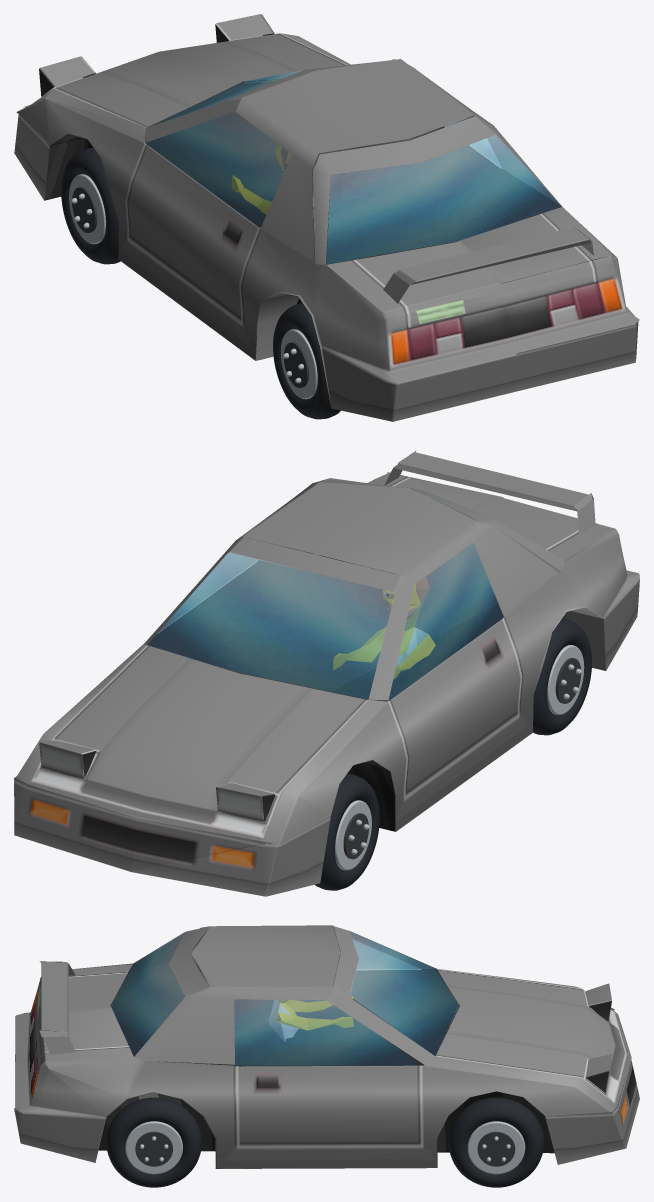
The model's file is car-sportsb.glb.
The picture shows the model from 3 angles, top to bottom: view 1: azimuth 30°, elevation 25°; view 2: azimuth 150°, elevation 25°; view 3: azimuth 270°, elevation 25°; orthographic projection. The views are drawn at different scales.
Parts seen in each view (by area): view 1: sportsBShape.002, windShape.006, sportsb wheel assembly.003, sportsb wheel assembly.001, sportsBShape, sportsBShape.001; view 2: sportsBShape.002, windShape.006, sportsb wheel assembly.001, sportsb wheel assembly.003, sportsBShape.001, sportsBShape; view 3: sportsBShape.002, windShape.006, sportsb wheel assembly.002, sportsb wheel assembly, sportsBShape, sportsBShape.001.
Boxes of the visible parts, box(x1,y1,x2,y2) form: sportsBShape.002: box(14, 14, 639, 421); windShape.006: box(145, 60, 561, 263); sportsb wheel assembly.003: box(61, 148, 120, 264); sportsb wheel assembly.001: box(273, 303, 340, 419); sportsBShape: box(44, 133, 635, 378); sportsBShape.001: box(232, 144, 317, 229); sportsBShape.002: box(14, 450, 639, 896); windShape.006: box(147, 492, 503, 700); sportsb wheel assembly.001: box(533, 618, 591, 735); sportsb wheel assembly.003: box(314, 774, 379, 890); sportsBShape.001: box(333, 576, 435, 678); sportsBShape: box(14, 616, 564, 835); sportsBShape.002: box(14, 925, 639, 1168); windShape.006: box(111, 931, 458, 1065); sportsb wheel assembly.002: box(448, 1097, 544, 1187); sportsb wheel assembly: box(106, 1097, 201, 1187); sportsBShape: box(32, 1017, 554, 1162); sportsBShape.001: box(269, 996, 353, 1041).
Bounding box in the file's own units: 2.14 × 1.67 × 5.08.
7 materials, 4 textured.
